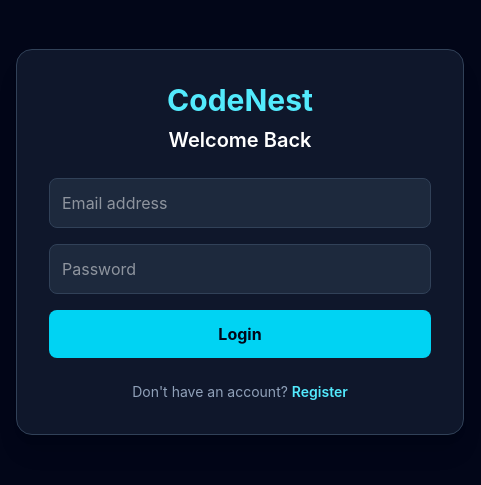
Scenario: Auth component › registers a new user successfully
This screenshot has width=481, height=485.
Click the button "Register".
click(320, 392)  # box [292,382,348,402]
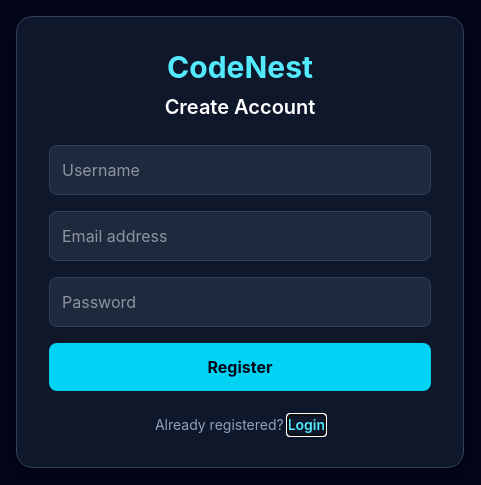
Type "test_user" into the field with placeholder "Username".
click(240, 170); type("test_user")  # box [49,145,431,195]
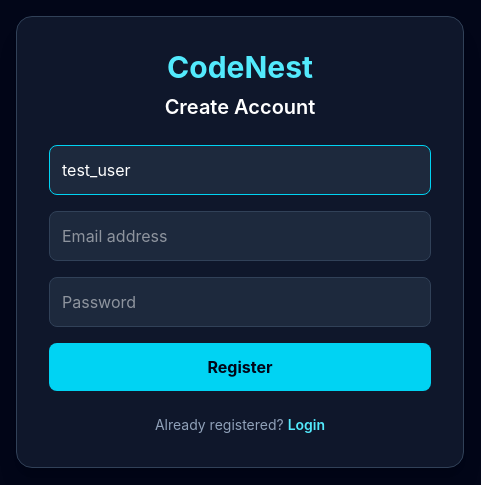
Type "test@example.com" into the field with placeholder "Email address".
click(240, 236); type("test@example.com")  # box [49,211,431,261]
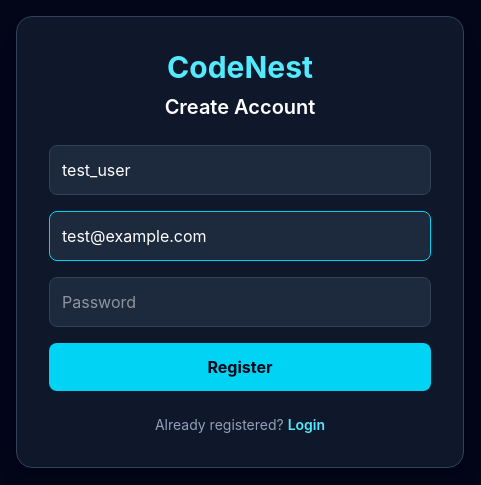
Type "password123" into the password field with placeholder "Password".
click(240, 302); type("password123")  # box [49,277,431,327]
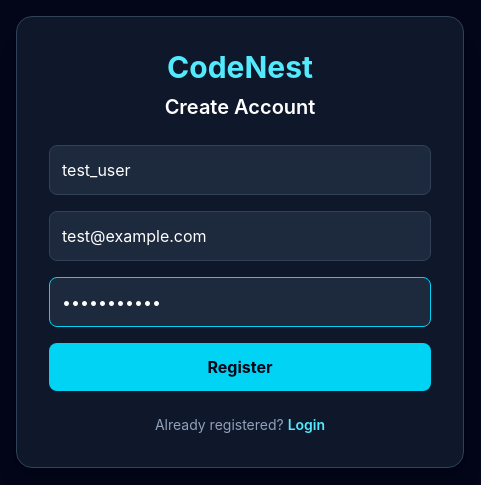
Click the button "Register".
click(240, 367)  # box [49,343,431,391]
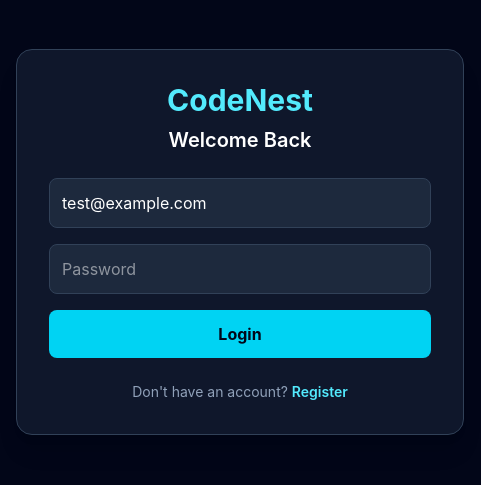
Expected: the heading "Welcome Back" is shown, [169,128,312,152]
